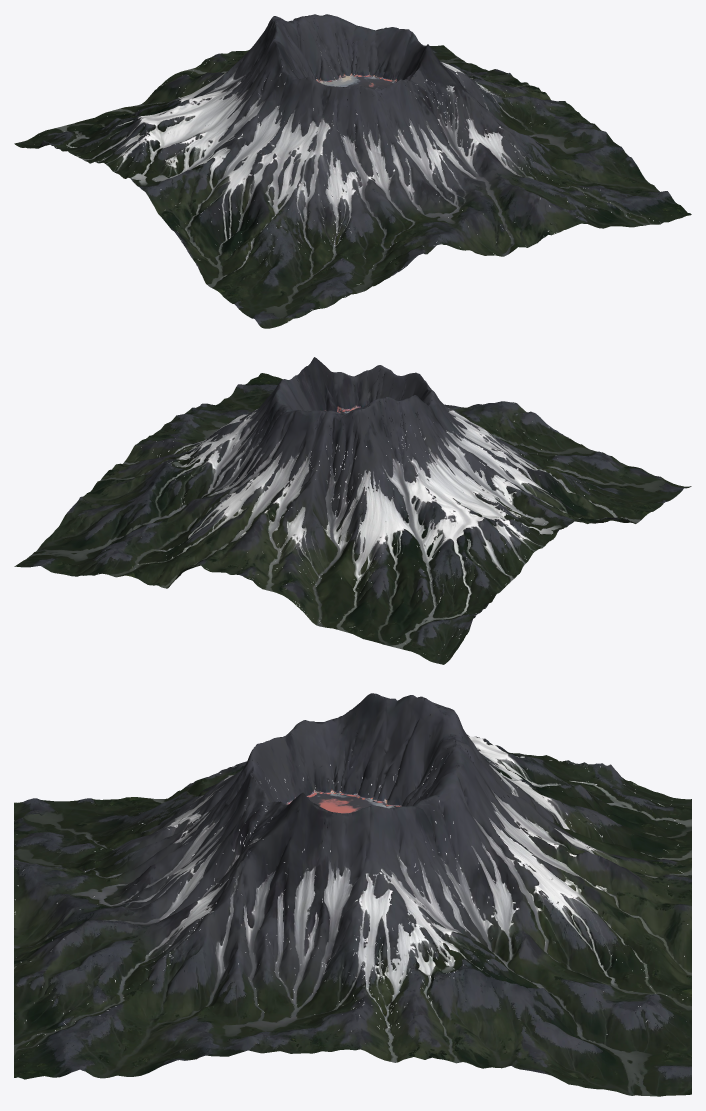
The model's file is snowy_volcano-hi.glb.
3 renders of one model, top to bottom at view 1: azimuth 30°, elevation 25°; view 2: azimuth 150°, elevation 25°; view 3: azimuth 270°, elevation 25°, orthographic. The views are drawn at different scales.
Parts seen in each view (by area): view 1: Object_2; view 2: Object_2; view 3: Object_2.
Boxes of the visible parts, x1=… form: Object_2: x1=14, y1=14, x2=691, y2=328; Object_2: x1=14, y1=357, x2=691, y2=664; Object_2: x1=14, y1=693, x2=691, y2=1096.
Bounding box in the file's own units: 0.999 × 0.3604 × 0.999.
Materials: 1 (1 with a texture image).
